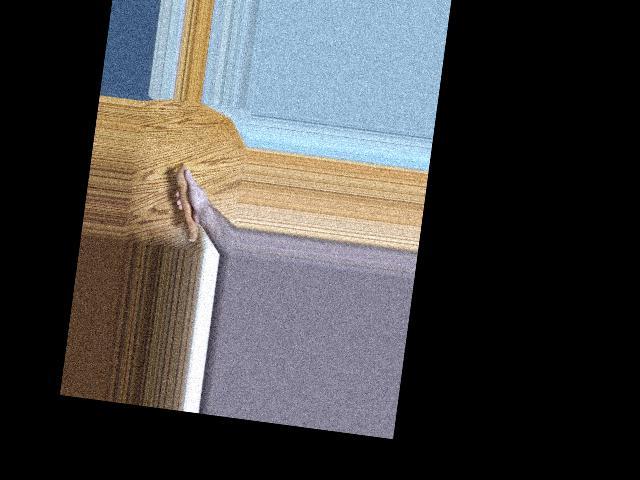sweet_potato: (165, 164, 209, 243)
